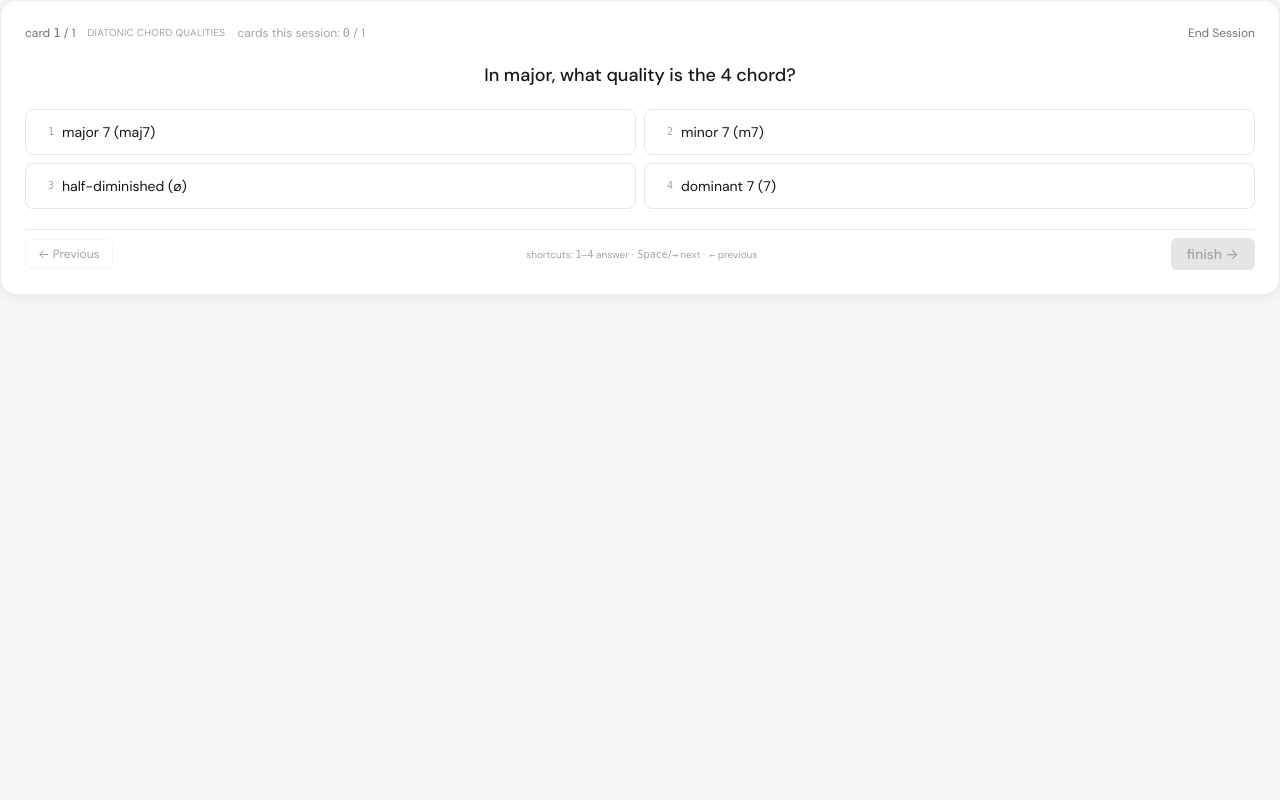
Test case: the navigation row › once answered, sits directly under the verdict and explanation, above the chart
The image size is (1280, 800).
Click the button "1 major 7 (maj7)" at (109, 132), box [25,109,636,155]
(page scrolled)
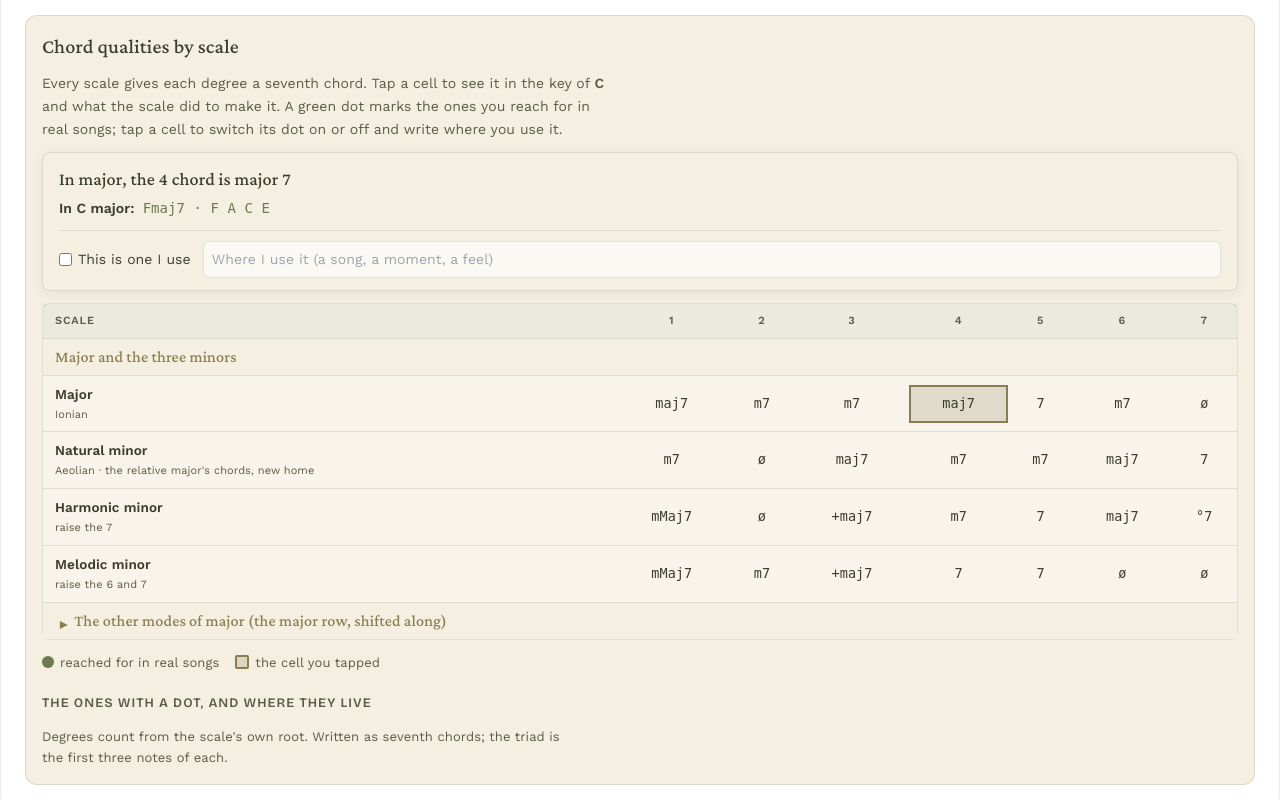
Expected: the element with test id "reveal" is shown
